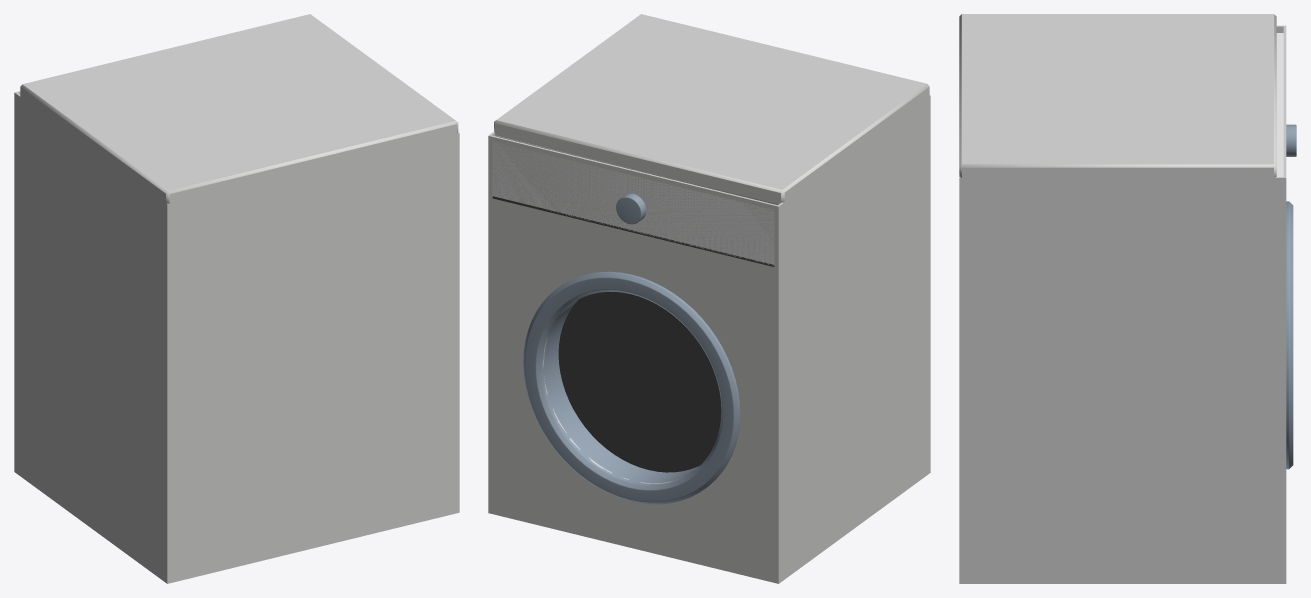
The model's file is dryer__ea0080f2433b.glb.
The picture shows the model from 3 angles, left to right: view 1: azimuth 30°, elevation 25°; view 2: azimuth 150°, elevation 25°; view 3: azimuth 270°, elevation 25°; orthographic projection. The views are drawn at different scales.
Parts seen in each view (by area): view 1: enamel_cabinet, lid.001; view 2: enamel_cabinet, lid.001, recessed_glazing, sloping_door_rim, control_fascia, lower_seam, selector; view 3: enamel_cabinet, lid.001, sloping_door_rim, control_fascia.
Boxes of the visible parts, box(x1,y1,x2,y2) form: enamel_cabinet: box(14, 91, 459, 583); lid.001: box(20, 14, 458, 205); enamel_cabinet: box(488, 95, 930, 583); lid.001: box(494, 14, 929, 204); recessed_glazing: box(558, 292, 721, 472); sloping_door_rim: box(523, 271, 740, 504); control_fascia: box(492, 141, 774, 265); lower_seam: box(492, 196, 774, 266); selector: box(616, 193, 646, 224); enamel_cabinet: box(959, 25, 1286, 583); lid.001: box(959, 14, 1276, 180); sloping_door_rim: box(1286, 201, 1293, 469); control_fascia: box(1276, 33, 1283, 176).
Bounding box in the file's own units: 0.664 × 0.85 × 0.621.
